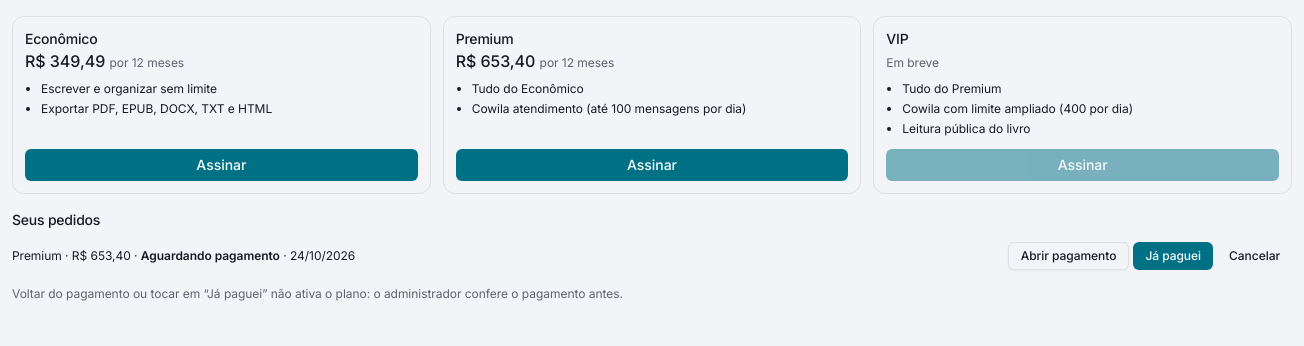
Scenario: compra de plano › 'Já paguei' só pede conferência e avisa que o plano não é ativado na hora
This screenshot has width=1304, height=346.
Check: the text "Aguardando pagamento" is shown, box [141,248,280,263]
Click the button "Já paguei".
click(1173, 256)  # box [1133,242,1213,270]
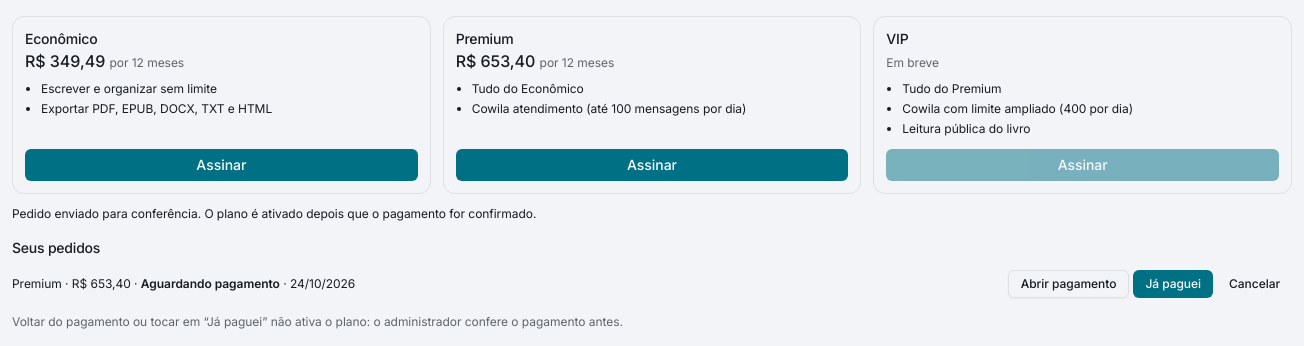
Check: the text "não ativa o plano: o administrador confere" is shown, box [12,314,623,329]
Check: the text "O plano é ativado depois que o pagamento for confirmado" is shown, box [12,206,536,221]
